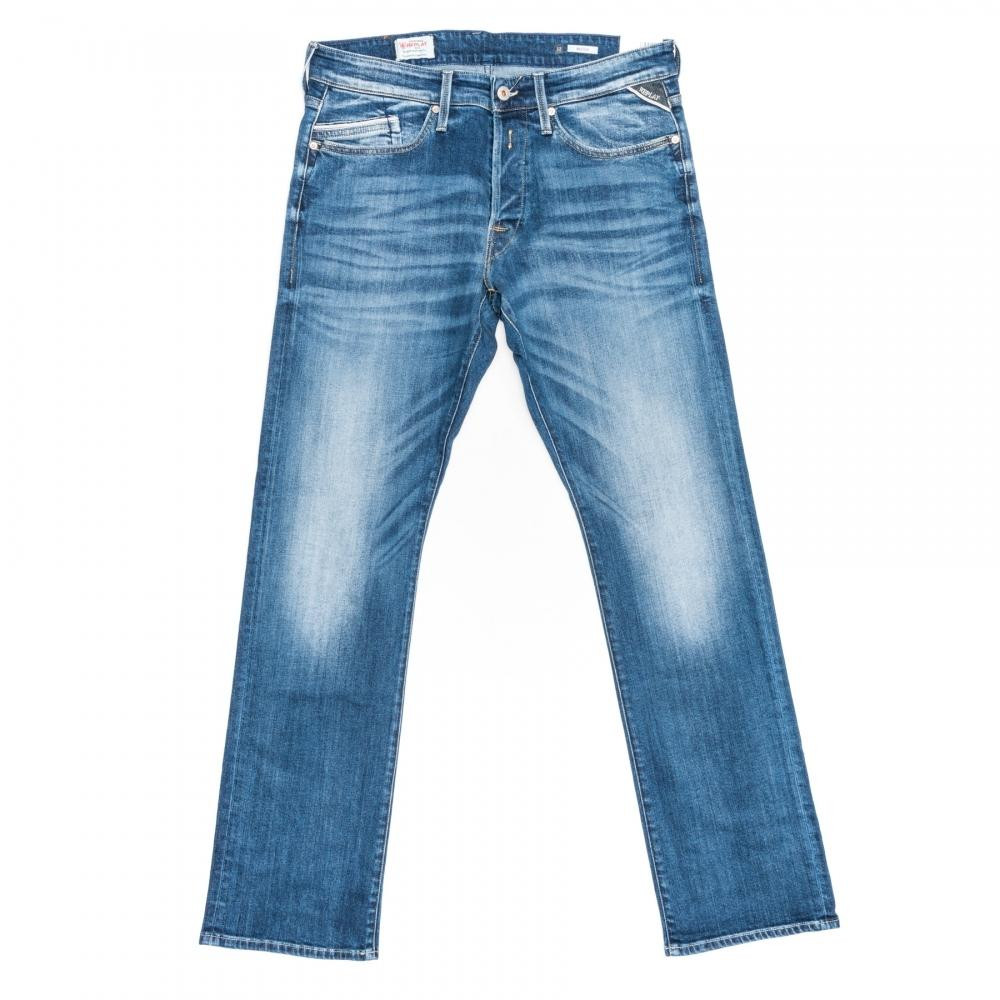Jeans: (189, 19, 847, 972)
